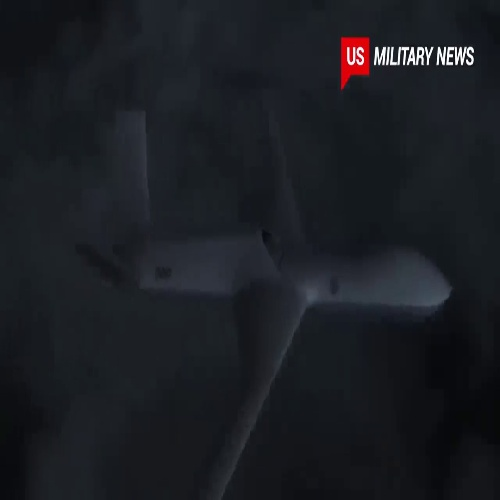uav: (68, 107, 452, 500)
